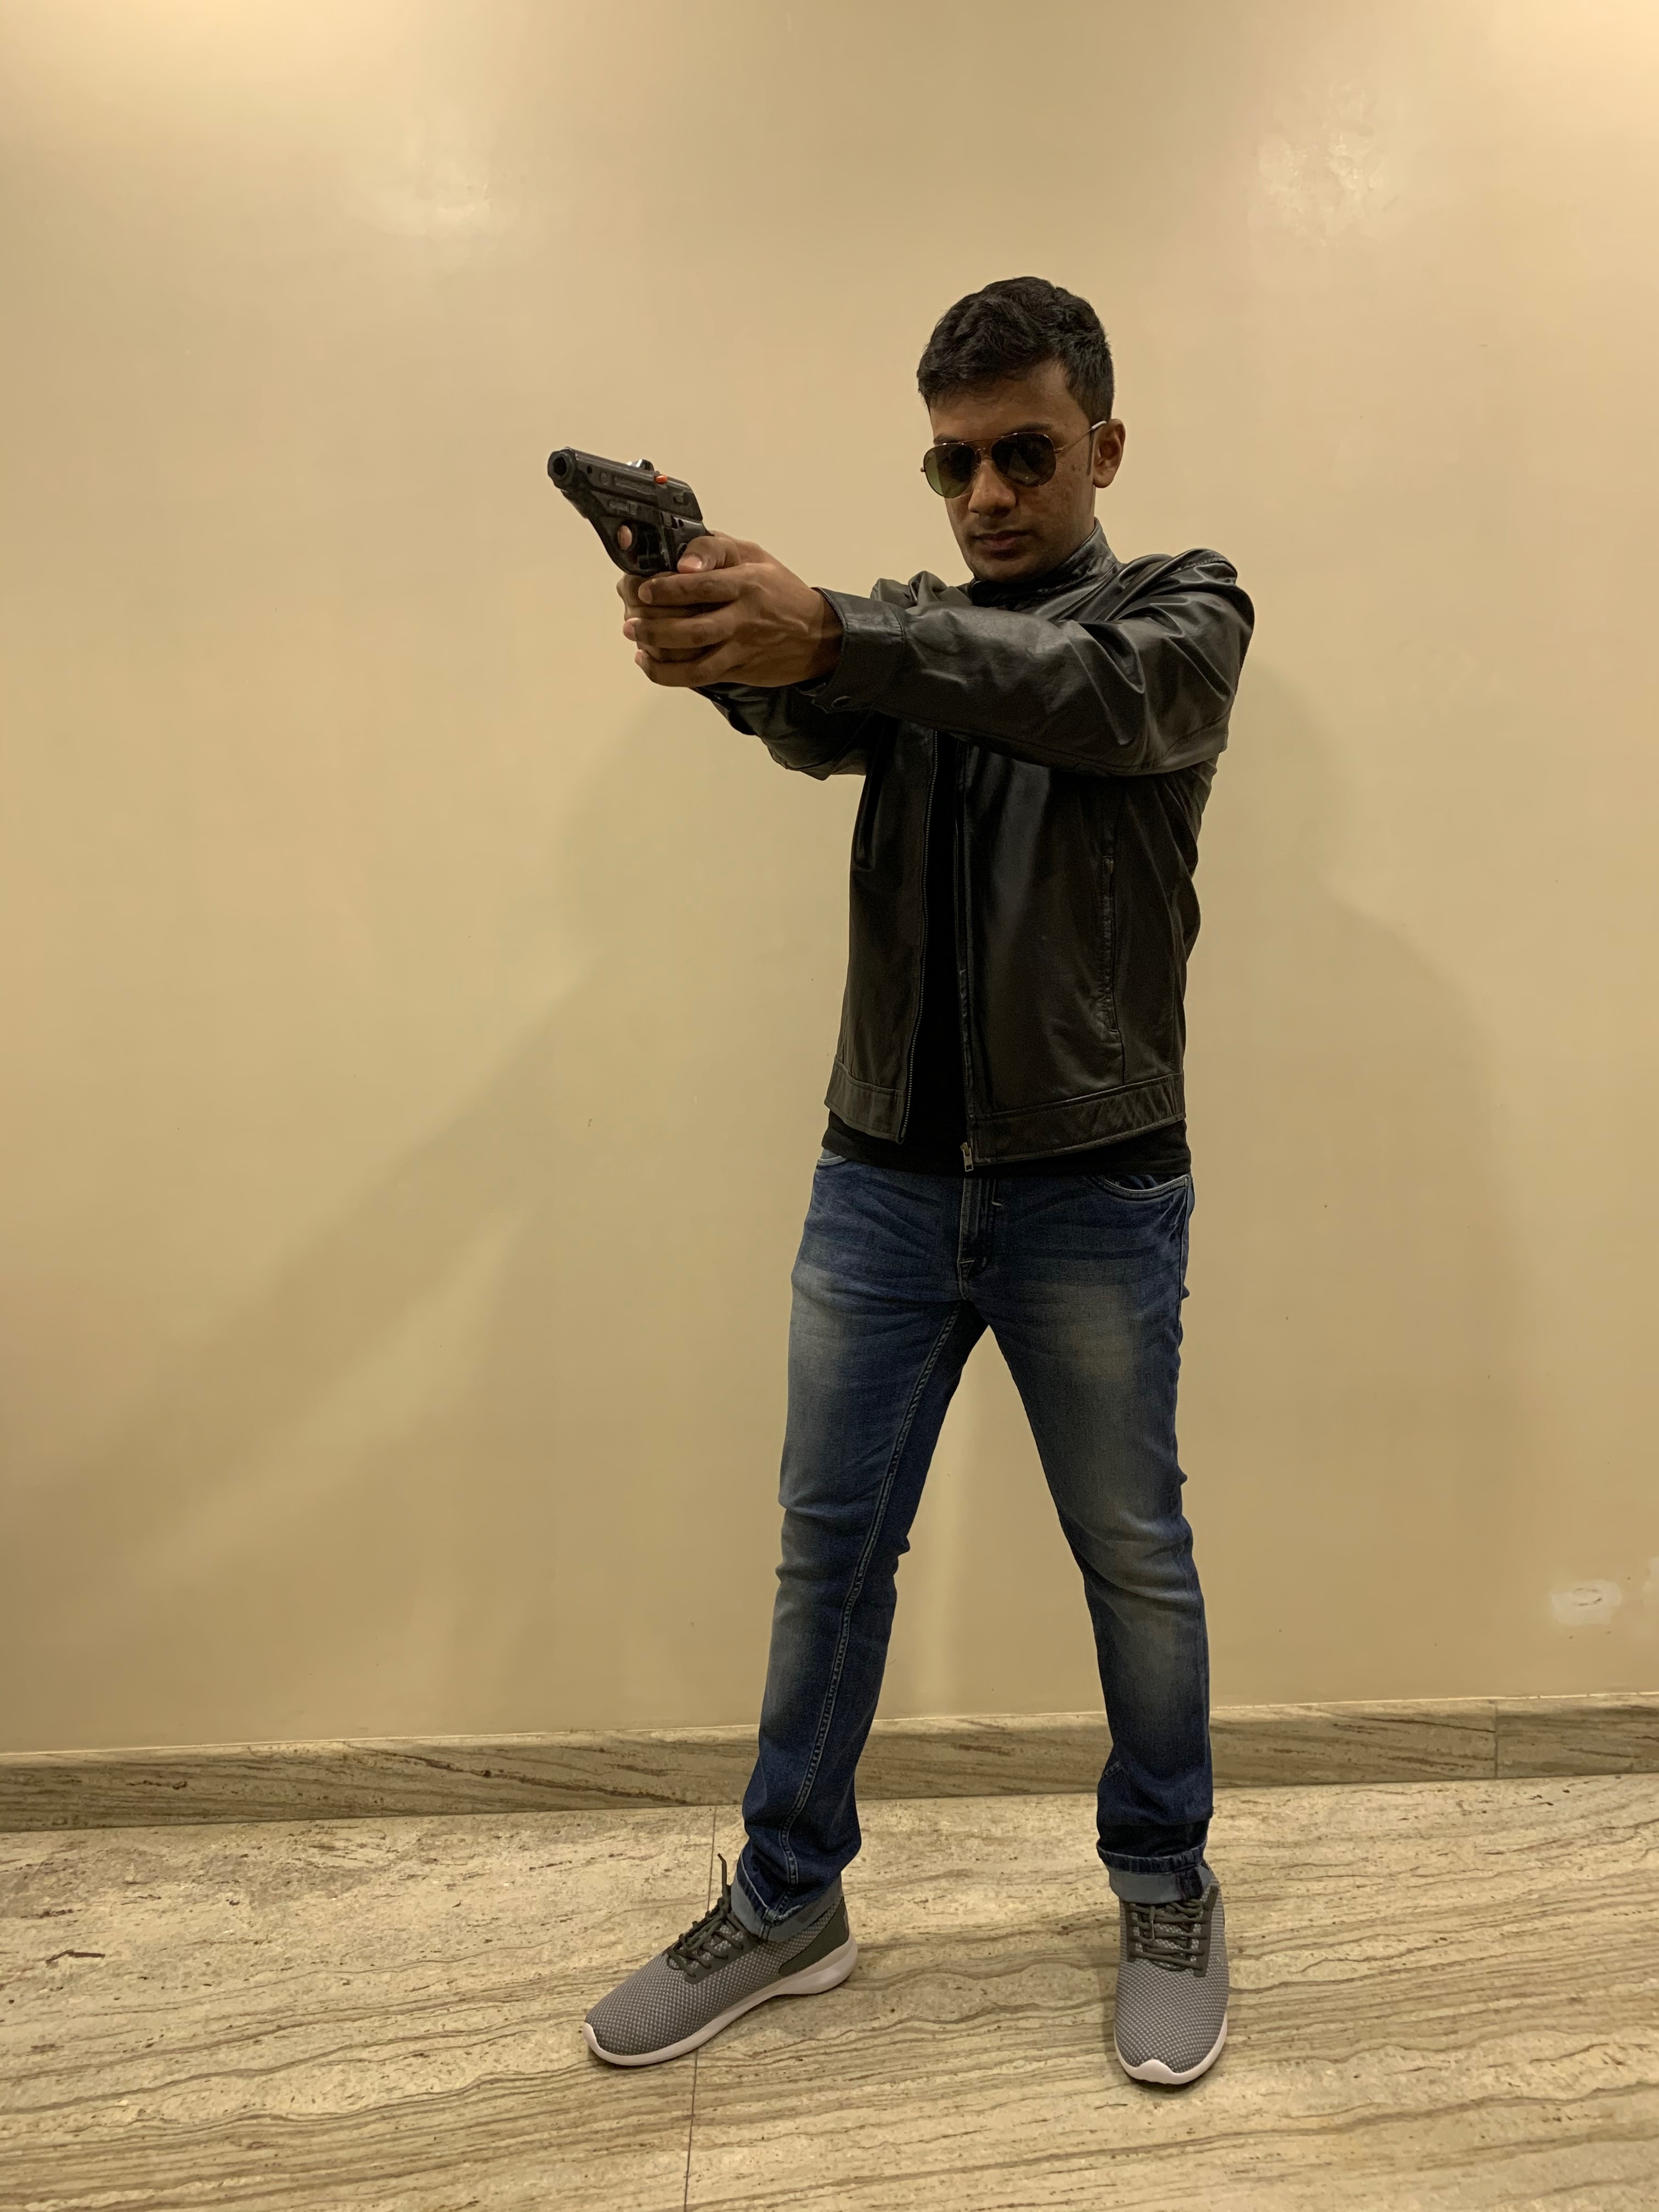gun: (545, 442, 709, 578)
